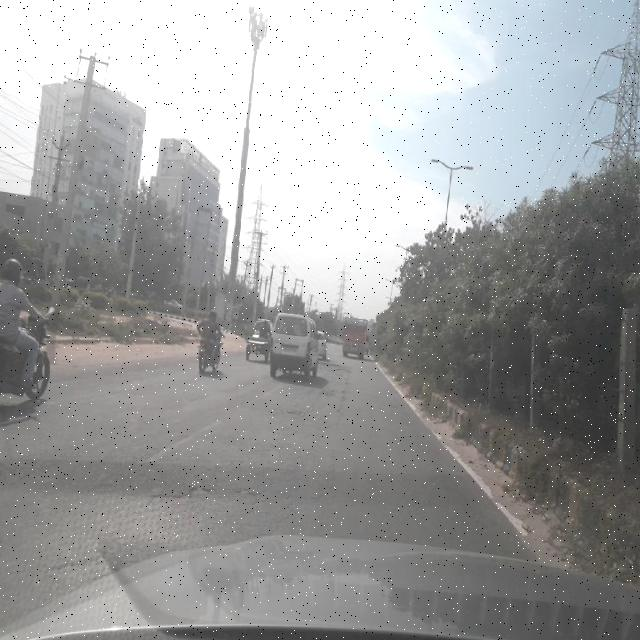D00: (323, 362, 352, 437)
D20: (42, 373, 348, 554), (392, 430, 522, 550)
D40: (35, 530, 149, 585), (145, 487, 182, 508), (184, 476, 210, 498), (282, 398, 308, 420)
